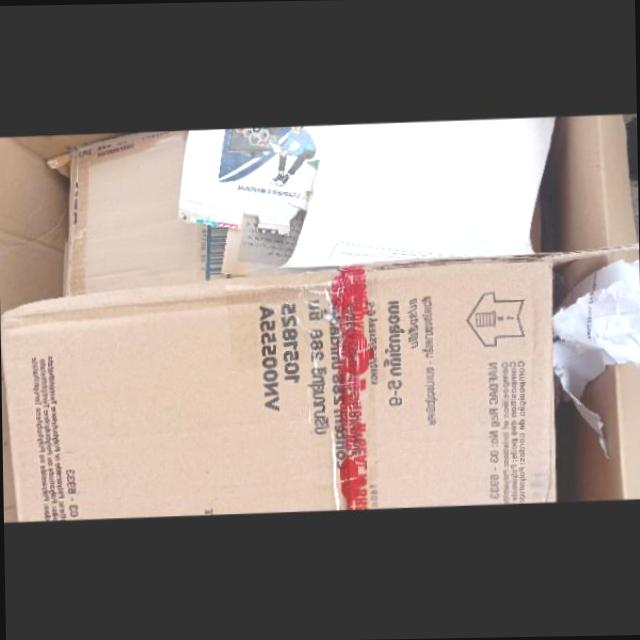carton: (0, 246, 639, 521)
giay: (278, 120, 556, 270), (552, 263, 640, 463), (178, 126, 329, 236)
